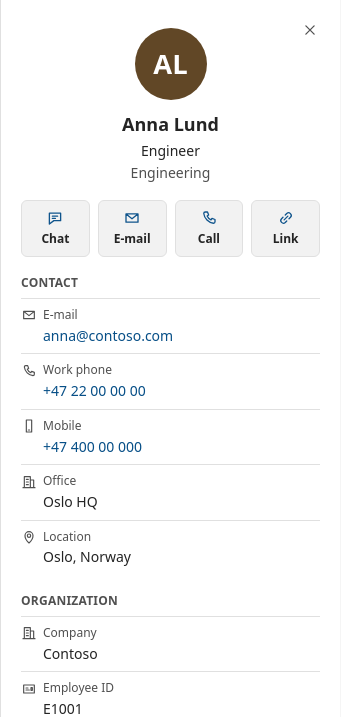
it: EmployeeDetailsPanel › offers the link to copy by hand when nothing could copy it
This screenshot has width=341, height=717.
Click the button with aria-label "Copy link": (286, 229) [251,200,320,257]
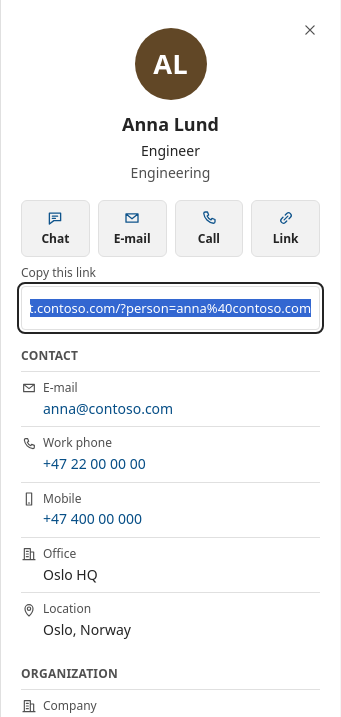
Expected: the field labelled "Copy this link" holds "https://chart.contoso.com/?person=anna%40contoso.com", [21,286,320,330]
